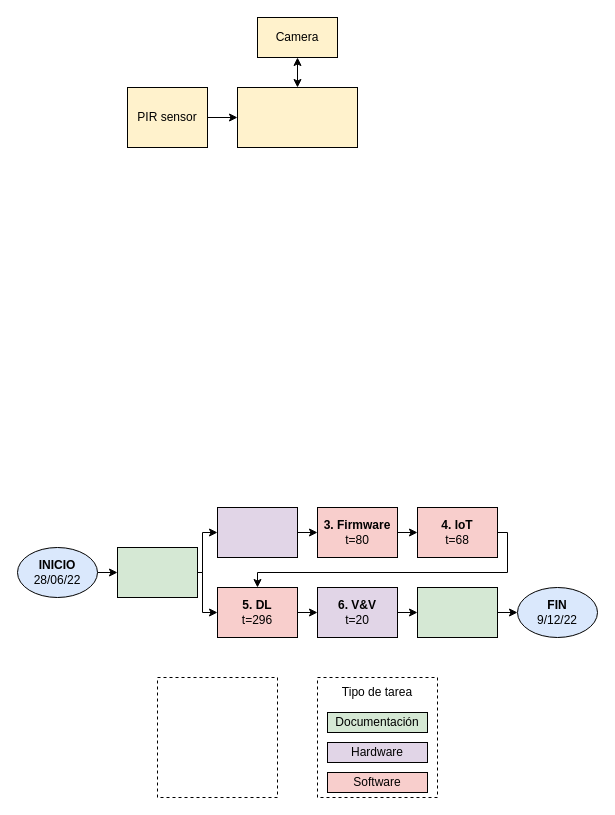
The diagram is 615 pixels wide and 815 high, and some of its shapes have lost their labels. Each missing label, with the box of its shape:
1. Análisis preliminar t=148: (116, 546, 198, 598)
2. Prototipo de pruebas t=128: (216, 506, 298, 558)
7. Cierre t=196: (416, 586, 498, 638)
ESP3-S3-DevKitC-1: (236, 86, 358, 148)
t: Tiempo requerido para realizar una tarea, expresado en horas: (156, 676, 278, 798)
